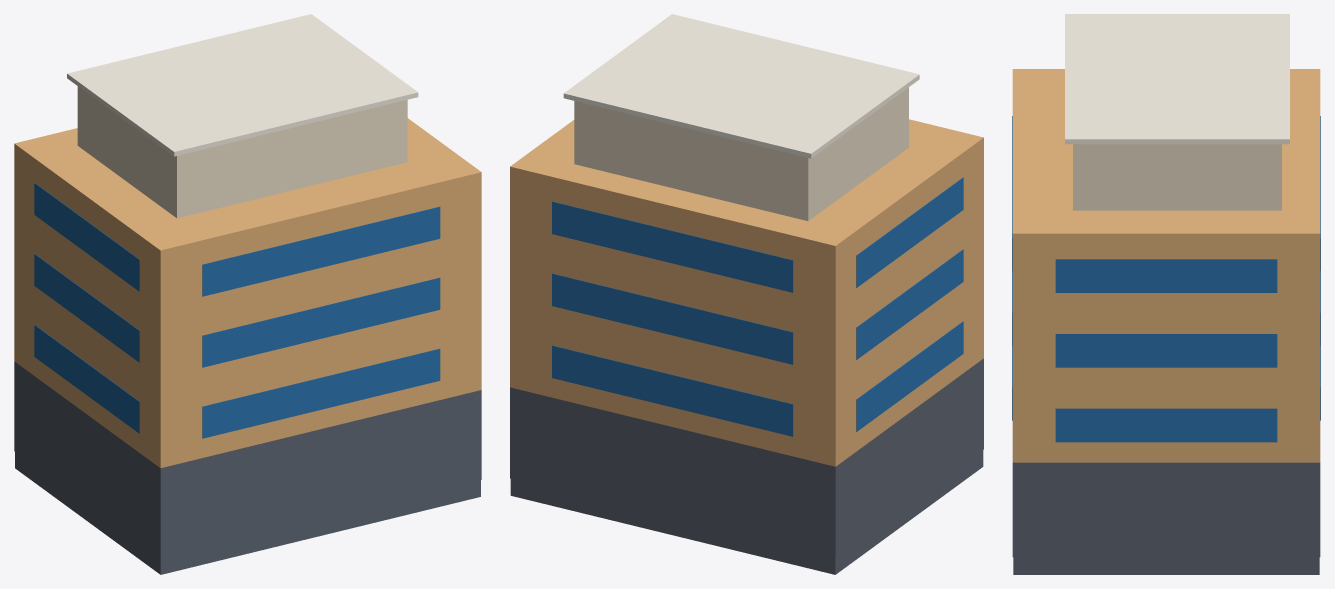
The model's file is 07c_midrise_attic-lod2.glb.
The picture shows the model from 3 angles, left to right: view 1: azimuth 30°, elevation 25°; view 2: azimuth 150°, elevation 25°; view 3: azimuth 270°, elevation 25°; orthographic projection. The views are drawn at different scales.
Visible parts, largest first — view 1: LOD2_07c_midrise_attic; view 2: LOD2_07c_midrise_attic; view 3: LOD2_07c_midrise_attic.
Boxes of the visible parts, box(x1,y1,x2,y2) form: LOD2_07c_midrise_attic: box(14, 14, 481, 574); LOD2_07c_midrise_attic: box(510, 14, 983, 574); LOD2_07c_midrise_attic: box(1012, 14, 1320, 574).
Bounding box in the file's own units: 14.24 × 16.72 × 11.24.
Materials: 2 (2 with a texture image).
